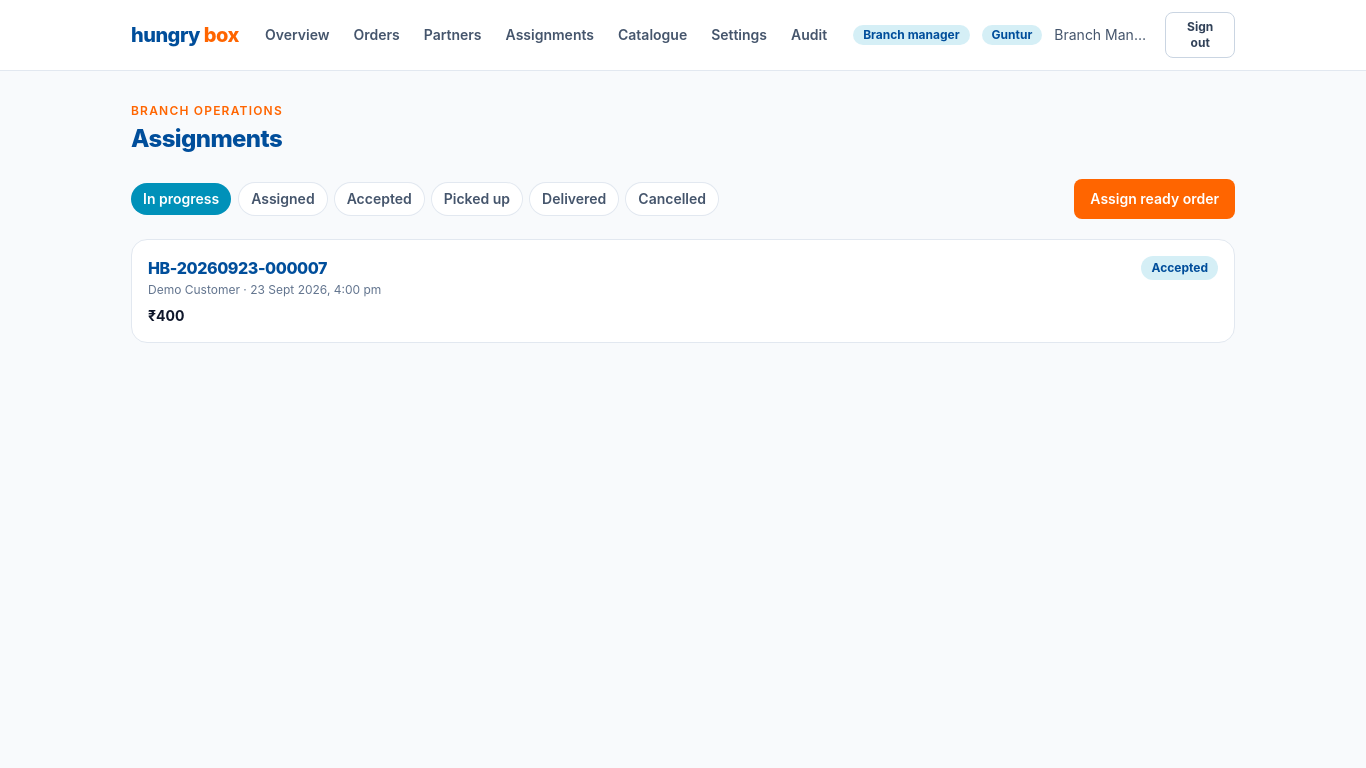
Scenario: manager assignments › assigns a ready order to an online partner
The width and height of the screenshot is (1366, 768).
Expected: the text "HB-20260923-000007" is shown, [148,258,327,278]
Step 1. Click the button "Assign ready order" → [1155, 199], box [1074,179,1235,219]
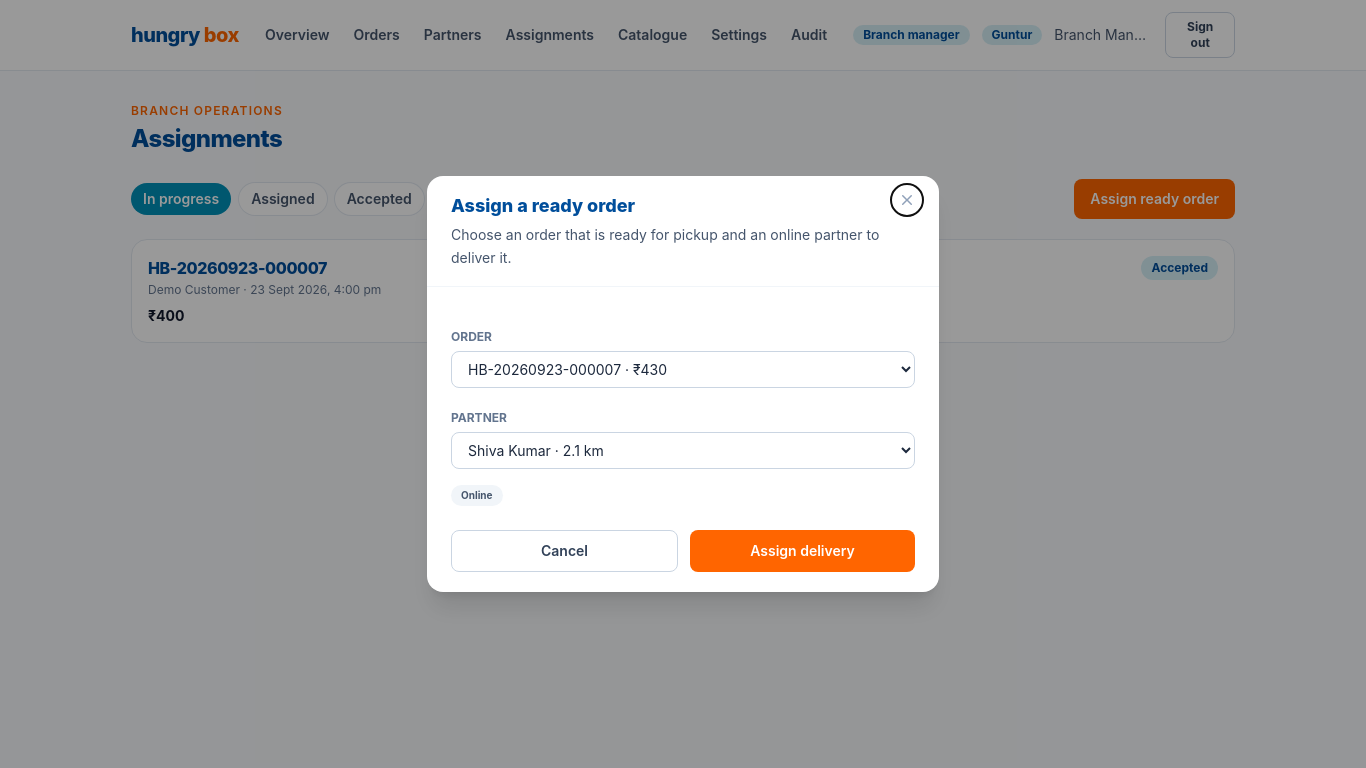
Now the dropdown labelled "Order" shows "HB-20260923-000007 · ₹430", box [451,351,915,388]
Step 2. Select "Shiva Kumar · 2.1 km" in the dropdown labelled "Partner" → [683, 450], box [451,432,915,469]
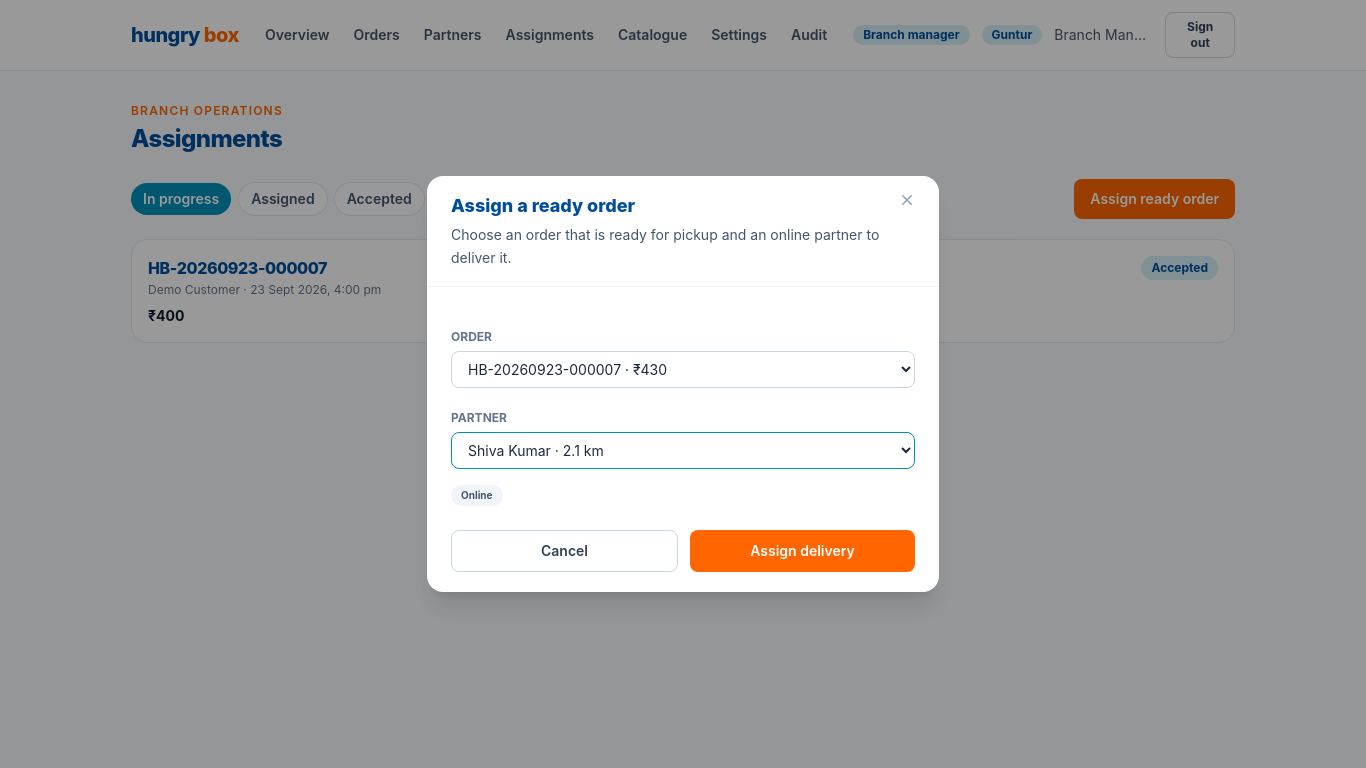
Step 3. Click the button "Assign delivery" → [802, 551], box [690,530,915,572]
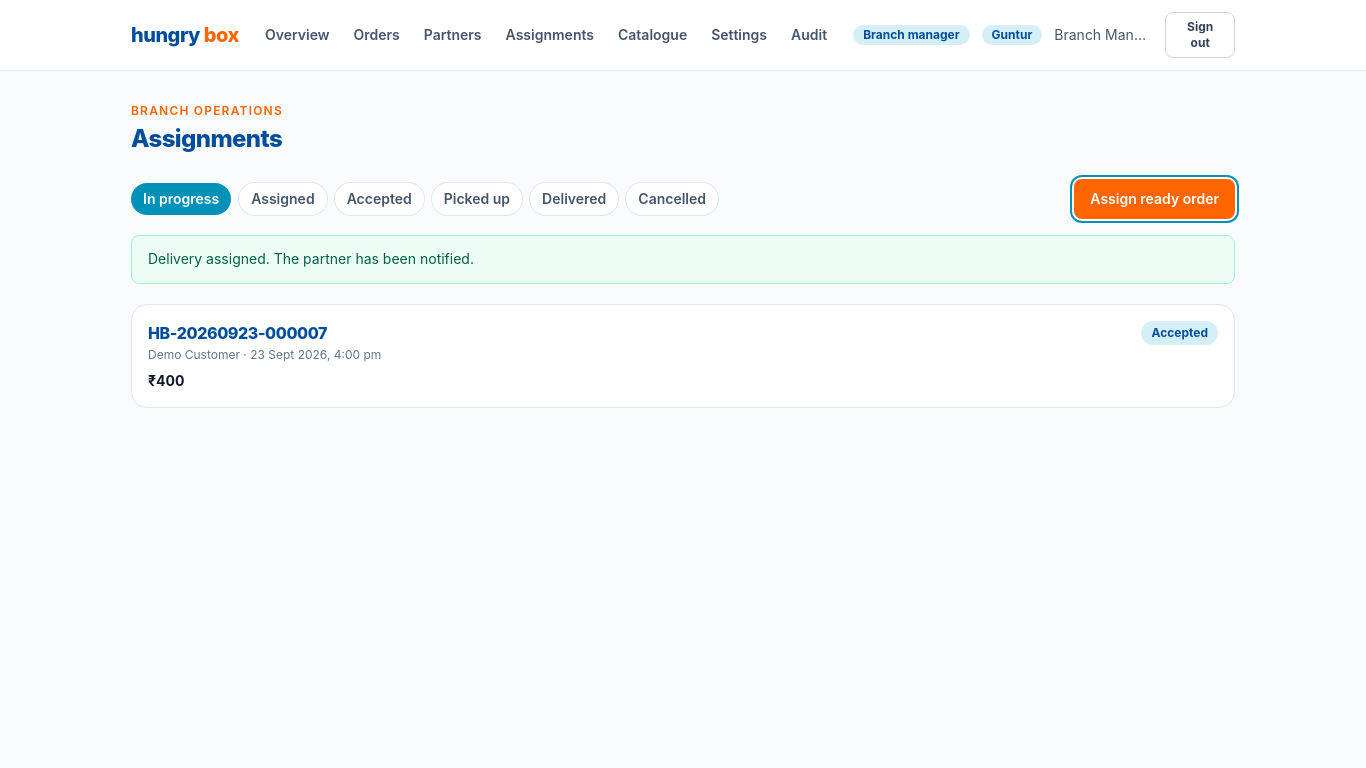
Now the text "Delivery assigned. The partner has been notified." is shown, box [131,235,1235,284]
